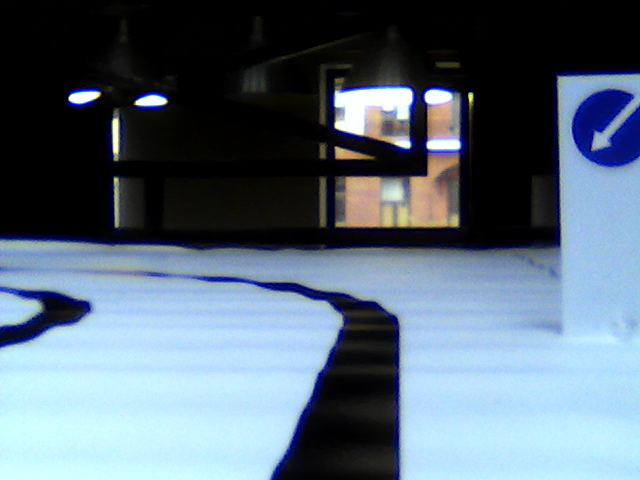prep: (573, 90, 640, 169)
